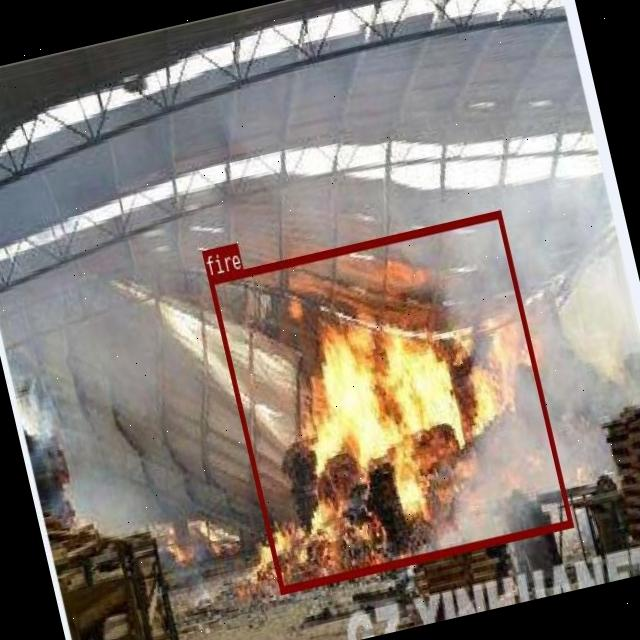fire: (208, 209, 572, 592)
